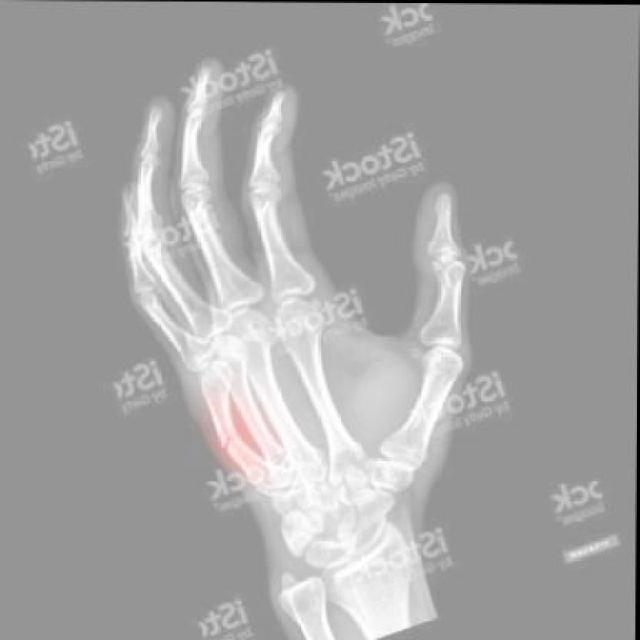Fracture: (212, 426, 254, 468)
